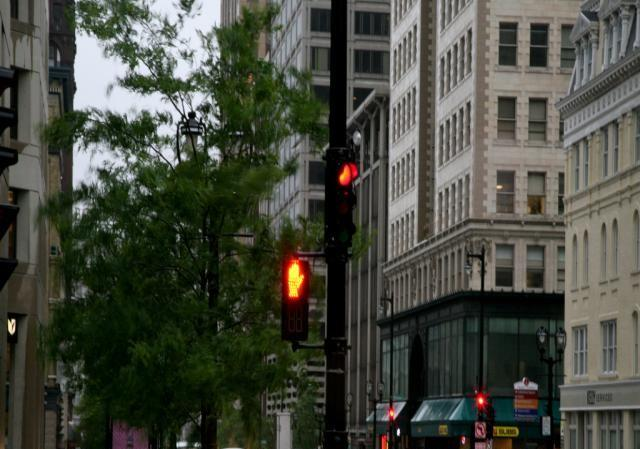red_light: (326, 149, 360, 248)
